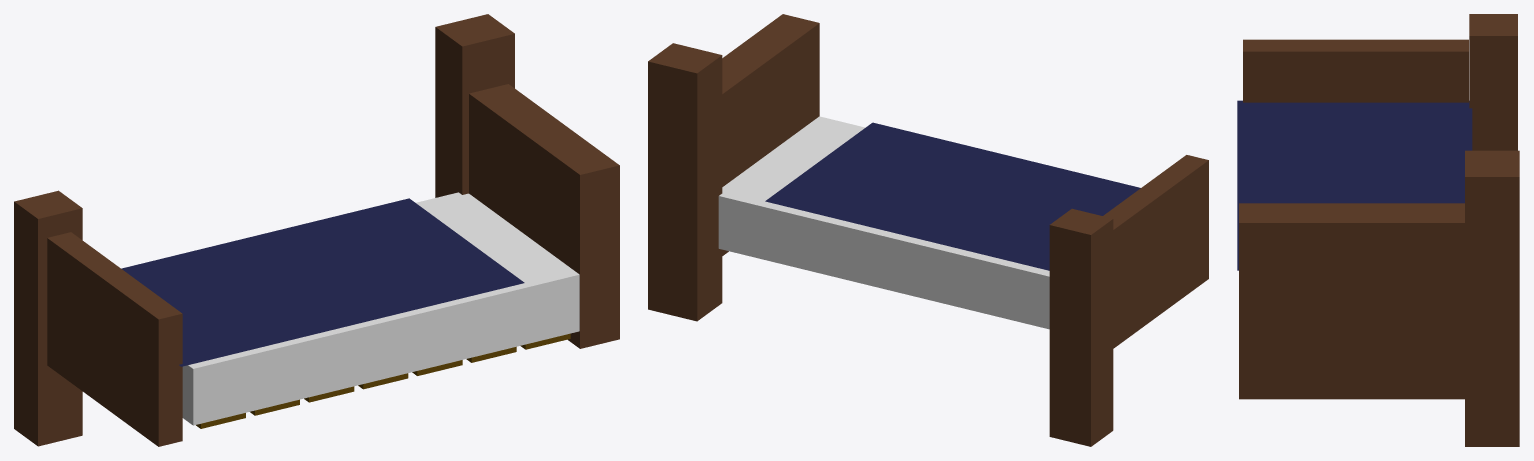
File: bed.glb
3 renders of one model, left to right at view 1: azimuth 30°, elevation 25°; view 2: azimuth 150°, elevation 25°; view 3: azimuth 270°, elevation 25°, orthographic. The views are drawn at different scales.
Parts seen in each view (by area): view 1: Plane.003, Cube.004, Cube.006, Cube.007, Cube.008, Cube.005, Plane.001; view 2: Plane.003, Cube.004, Cube.005, Cube.008, Cube.007, Cube.006; view 3: Cube.006, Plane.003, Cube.005, Cube.007, Cube.008.
Part boxes in pixels (box(x1,y1,x2,y2)): Plane.003: box(121, 198, 524, 366); Cube.004: box(182, 192, 579, 425); Cube.006: box(469, 84, 619, 348); Cube.007: box(47, 232, 182, 446); Cube.008: box(14, 190, 82, 446); Cube.005: box(435, 14, 514, 197); Plane.001: box(196, 333, 570, 428); Plane.003: box(765, 122, 1140, 270); Cube.004: box(718, 116, 1049, 329); Cube.005: box(648, 43, 722, 321); Cube.008: box(1049, 208, 1113, 446); Cube.007: box(1103, 155, 1208, 348); Cube.006: box(722, 14, 819, 255); Cube.006: box(1239, 203, 1464, 399); Plane.003: box(1237, 100, 1472, 270); Cube.005: box(1465, 150, 1519, 446); Cube.007: box(1243, 39, 1468, 102); Cube.008: box(1469, 14, 1517, 150).
Size of the model in its own units: 3.57 by 2.15 by 1.81.
